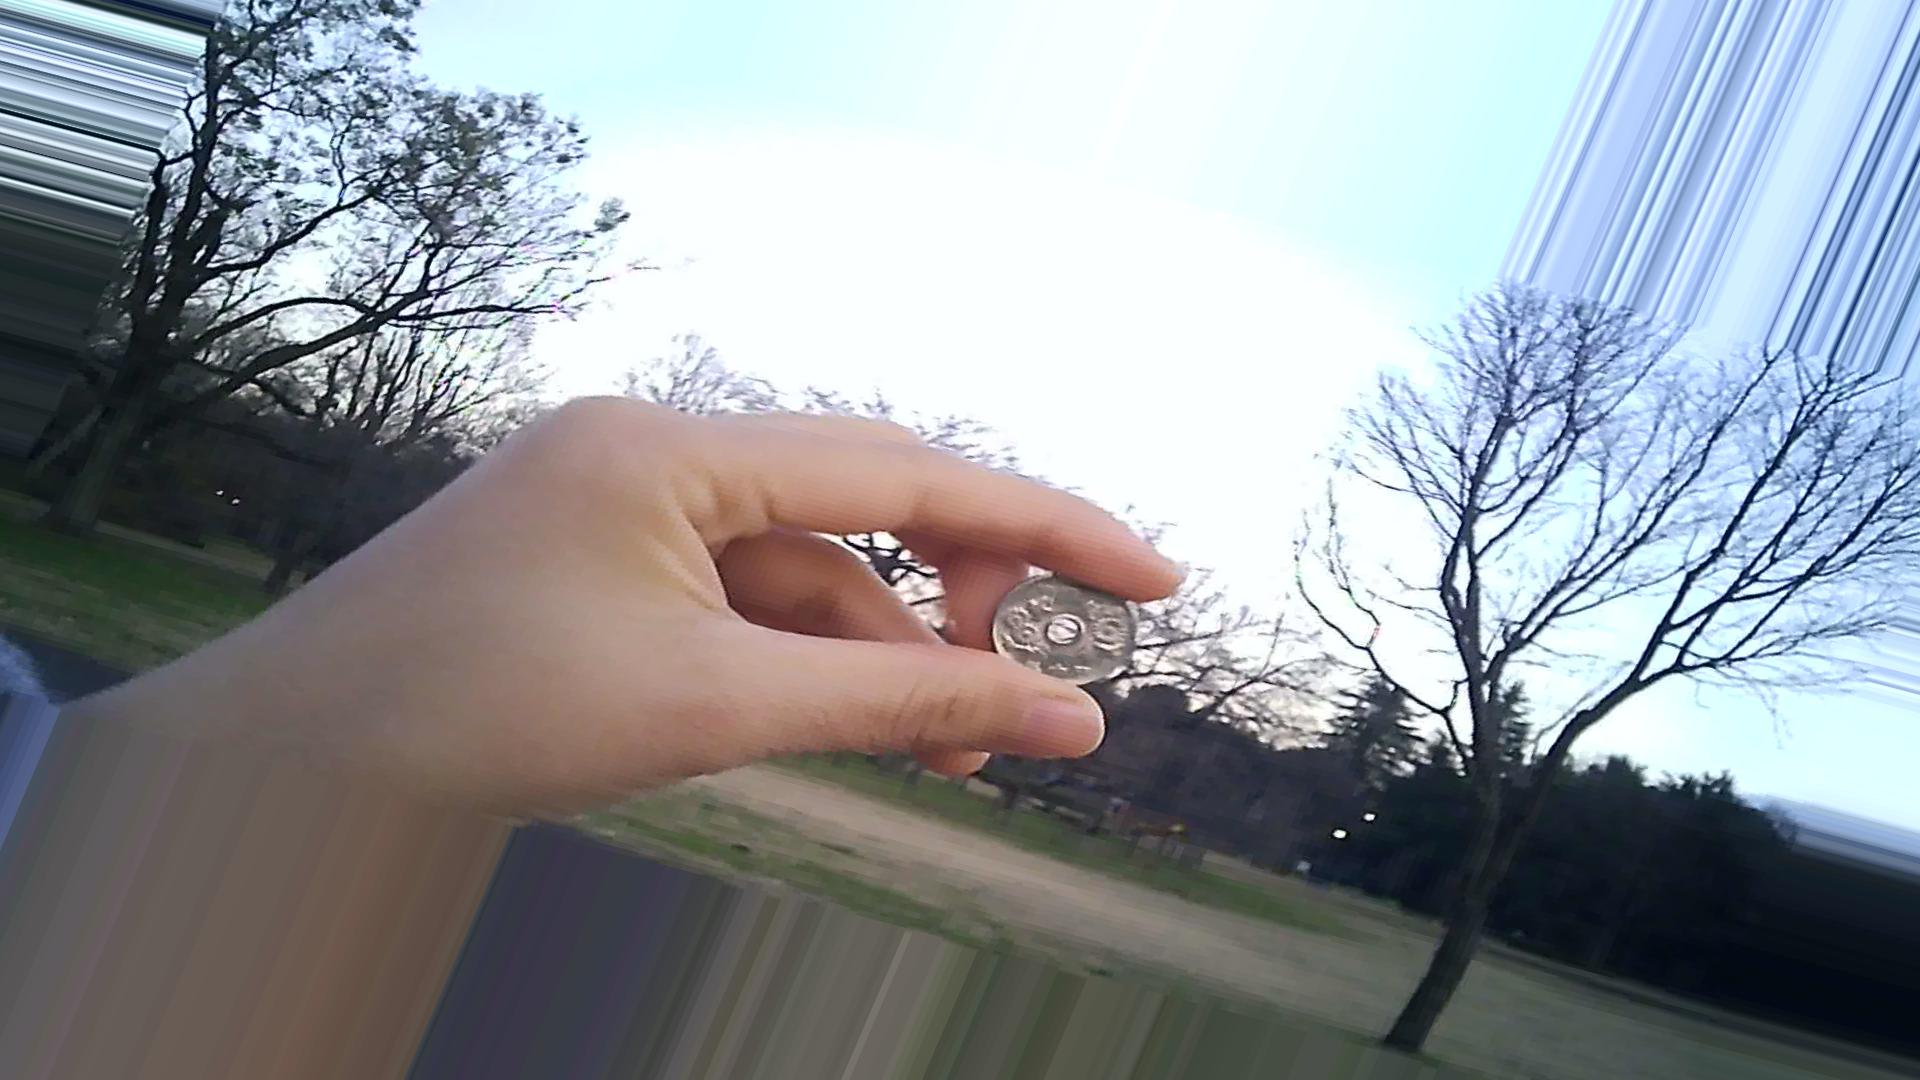50 Yen: (975, 555, 1145, 705)
